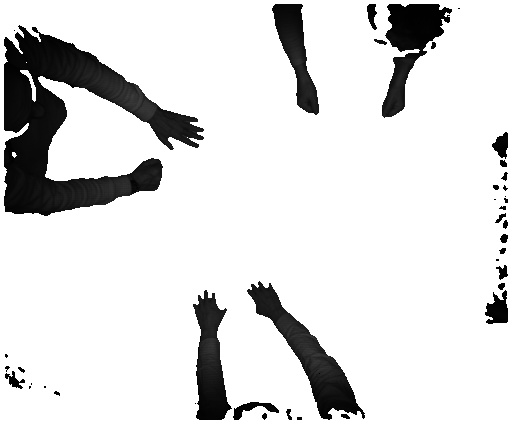fist: (291, 79, 319, 119), (136, 156, 167, 191), (376, 88, 407, 119)
hand: (158, 103, 207, 155), (192, 288, 231, 334), (240, 280, 284, 319)
